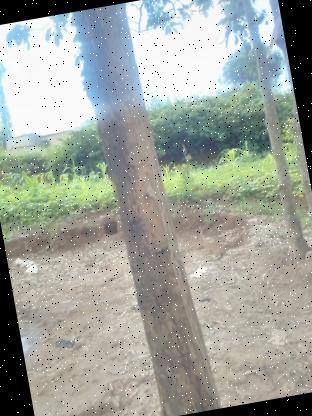tree: (64, 0, 233, 416), (236, 0, 312, 276)
